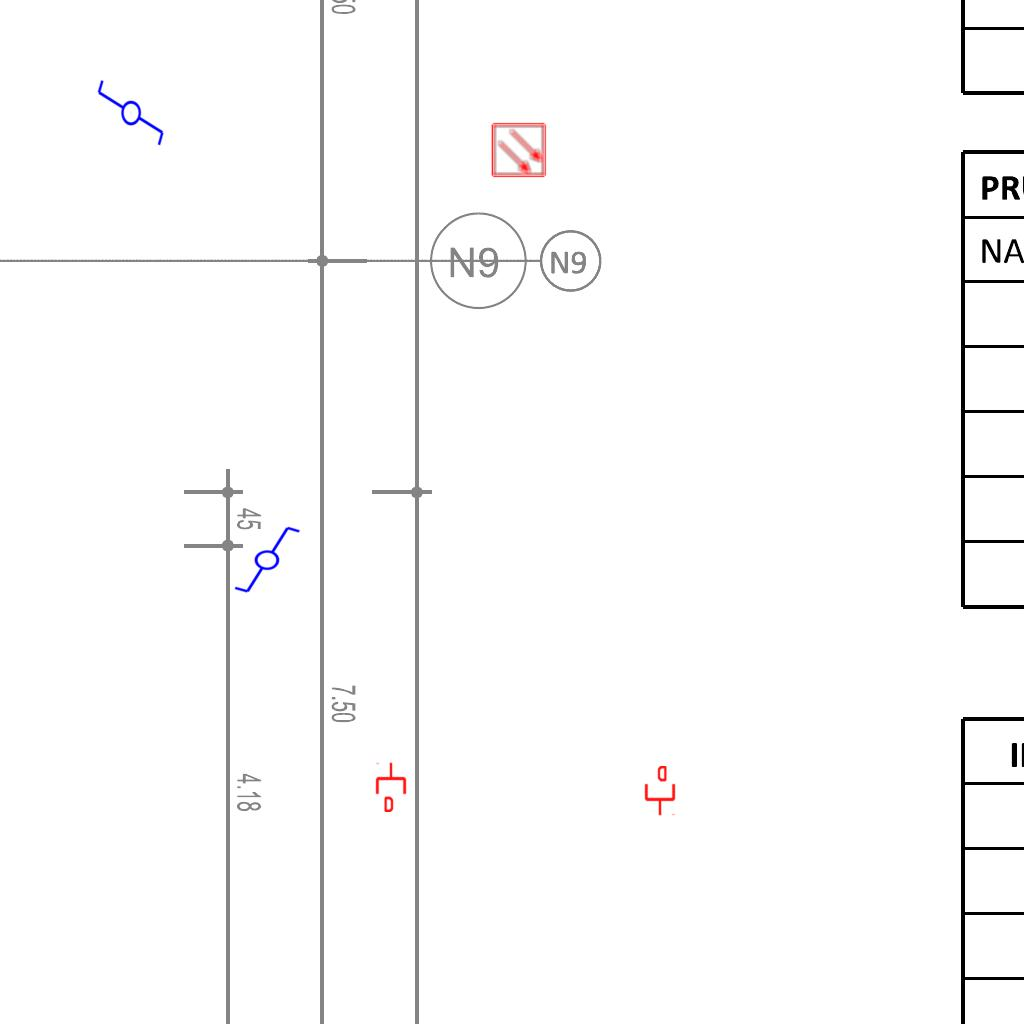Datenanschluss_einfach: (643, 766, 677, 816), (374, 762, 408, 812)
RMO_Rauchmelder_optischer: (491, 122, 547, 178)
Wechselschalter: (94, 78, 166, 156), (224, 523, 302, 595)
